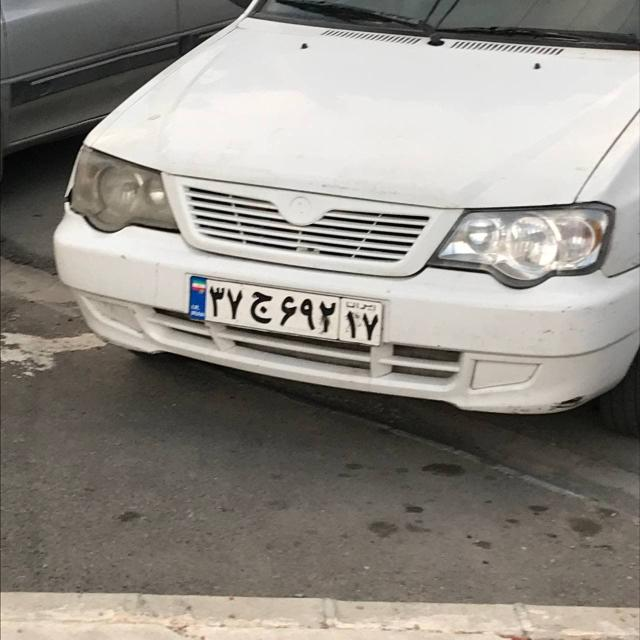Plates: (184, 273, 388, 347)
